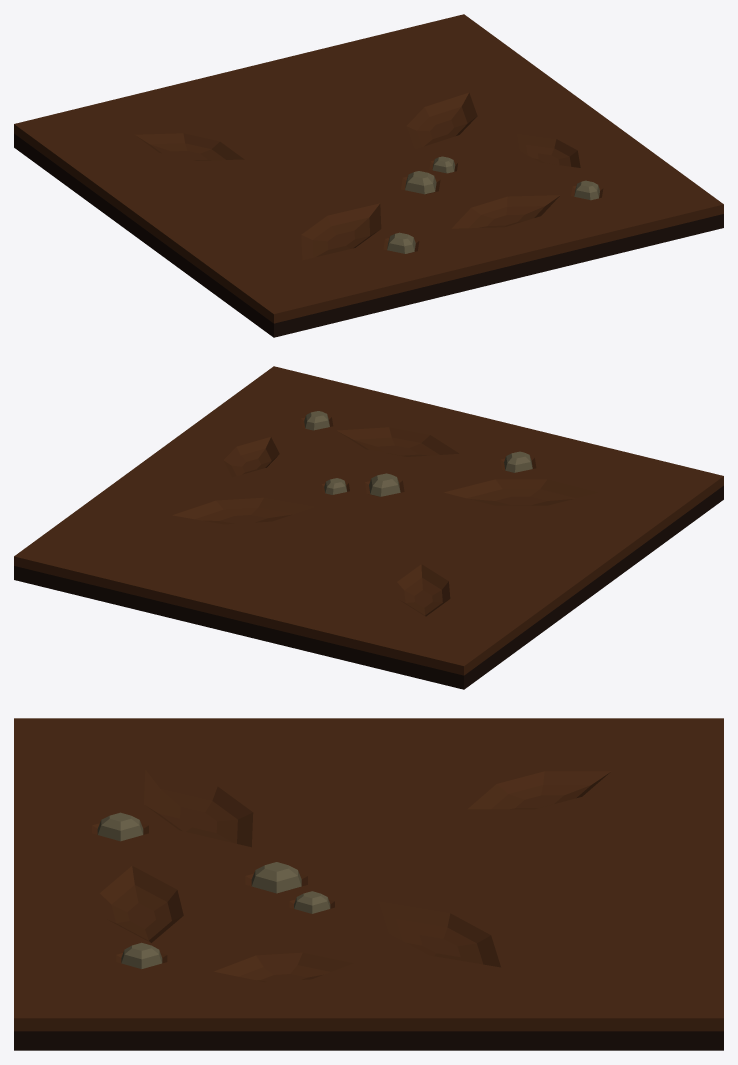
File: dirt-tile-6f4470.fbx
3 renders of one model, top to bottom at view 1: azimuth 30°, elevation 25°; view 2: azimuth 150°, elevation 25°; view 3: azimuth 270°, elevation 25°, orthographic. The views are drawn at different scales.
Visible parts, largest first — view 1: tile; view 2: tile; view 3: tile.
Boxes of the visible parts, x1=… form: tile: x1=14, y1=14, x2=723, y2=337; tile: x1=14, y1=366, x2=723, y2=689; tile: x1=14, y1=718, x2=723, y2=1050.
Bounding box in the file's own units: 1 × 0.071 × 1.
